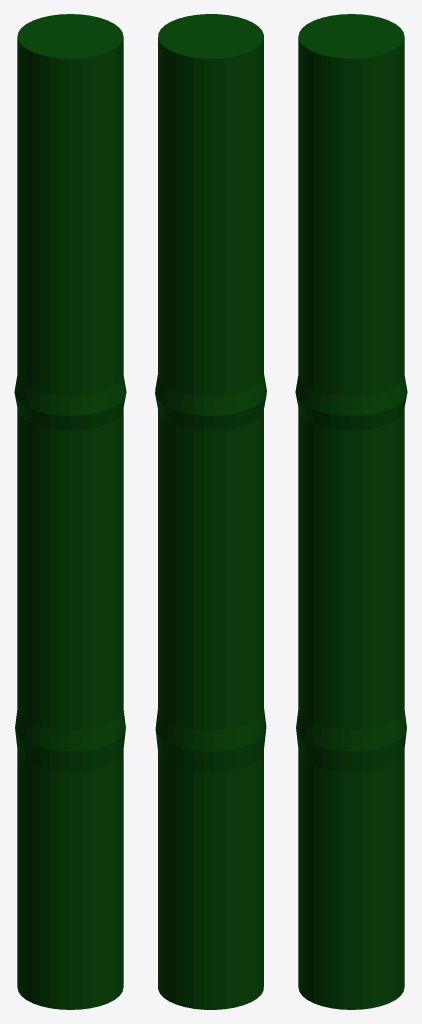
The model's file is Sugarcane.obj.
The picture shows the model from 3 angles, left to right: view 1: azimuth 90°, elevation 25°; view 2: azimuth 150°, elevation 25°; view 3: azimuth 270°, elevation 25°; orthographic projection.
Visible parts, largest first — view 1: Cylinder; view 2: Cylinder; view 3: Cylinder.
Part boxes in pixels (x1=…): Cylinder: x1=14, y1=14, x2=126, y2=1009; Cylinder: x1=155, y1=14, x2=266, y2=1009; Cylinder: x1=295, y1=14, x2=407, y2=1009.
Size of the model in its own units: 1.15 by 10.73 by 1.15.
